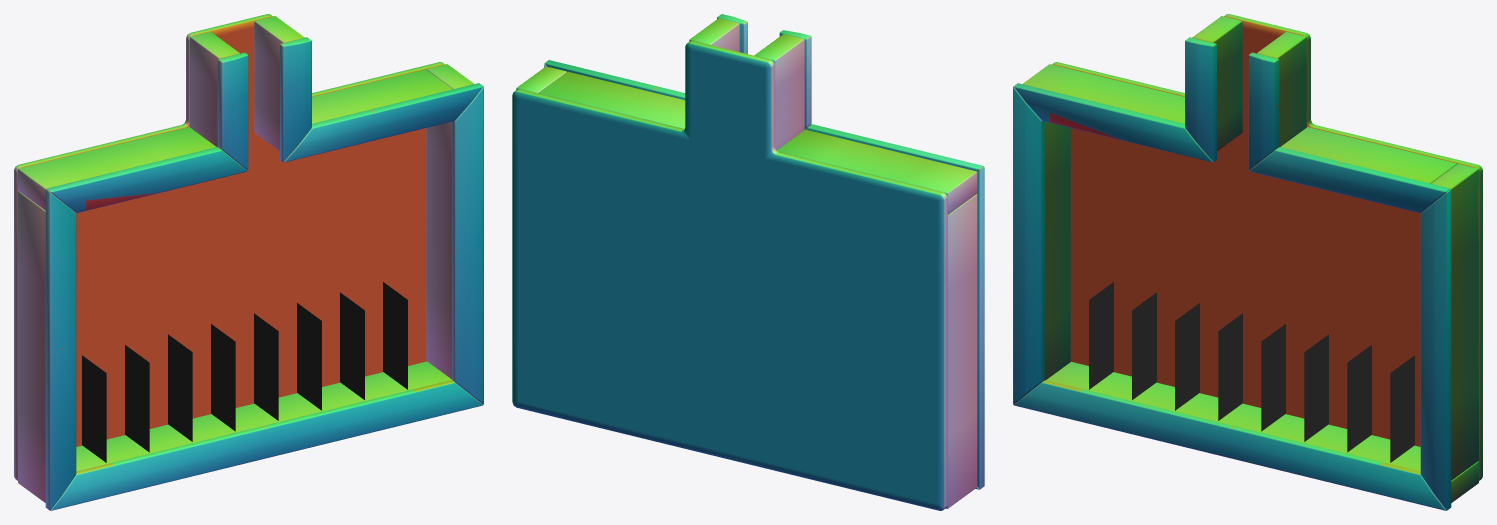
The model's file is machine2.obj.
3 renders of one model, left to right at view 1: azimuth 30°, elevation 25°; view 2: azimuth 150°, elevation 25°; view 3: azimuth 330°, elevation 25°, orthographic.
Size of the model in its own units: 10.1 by 9.05 by 1.55.
4 materials, 3 textured.
